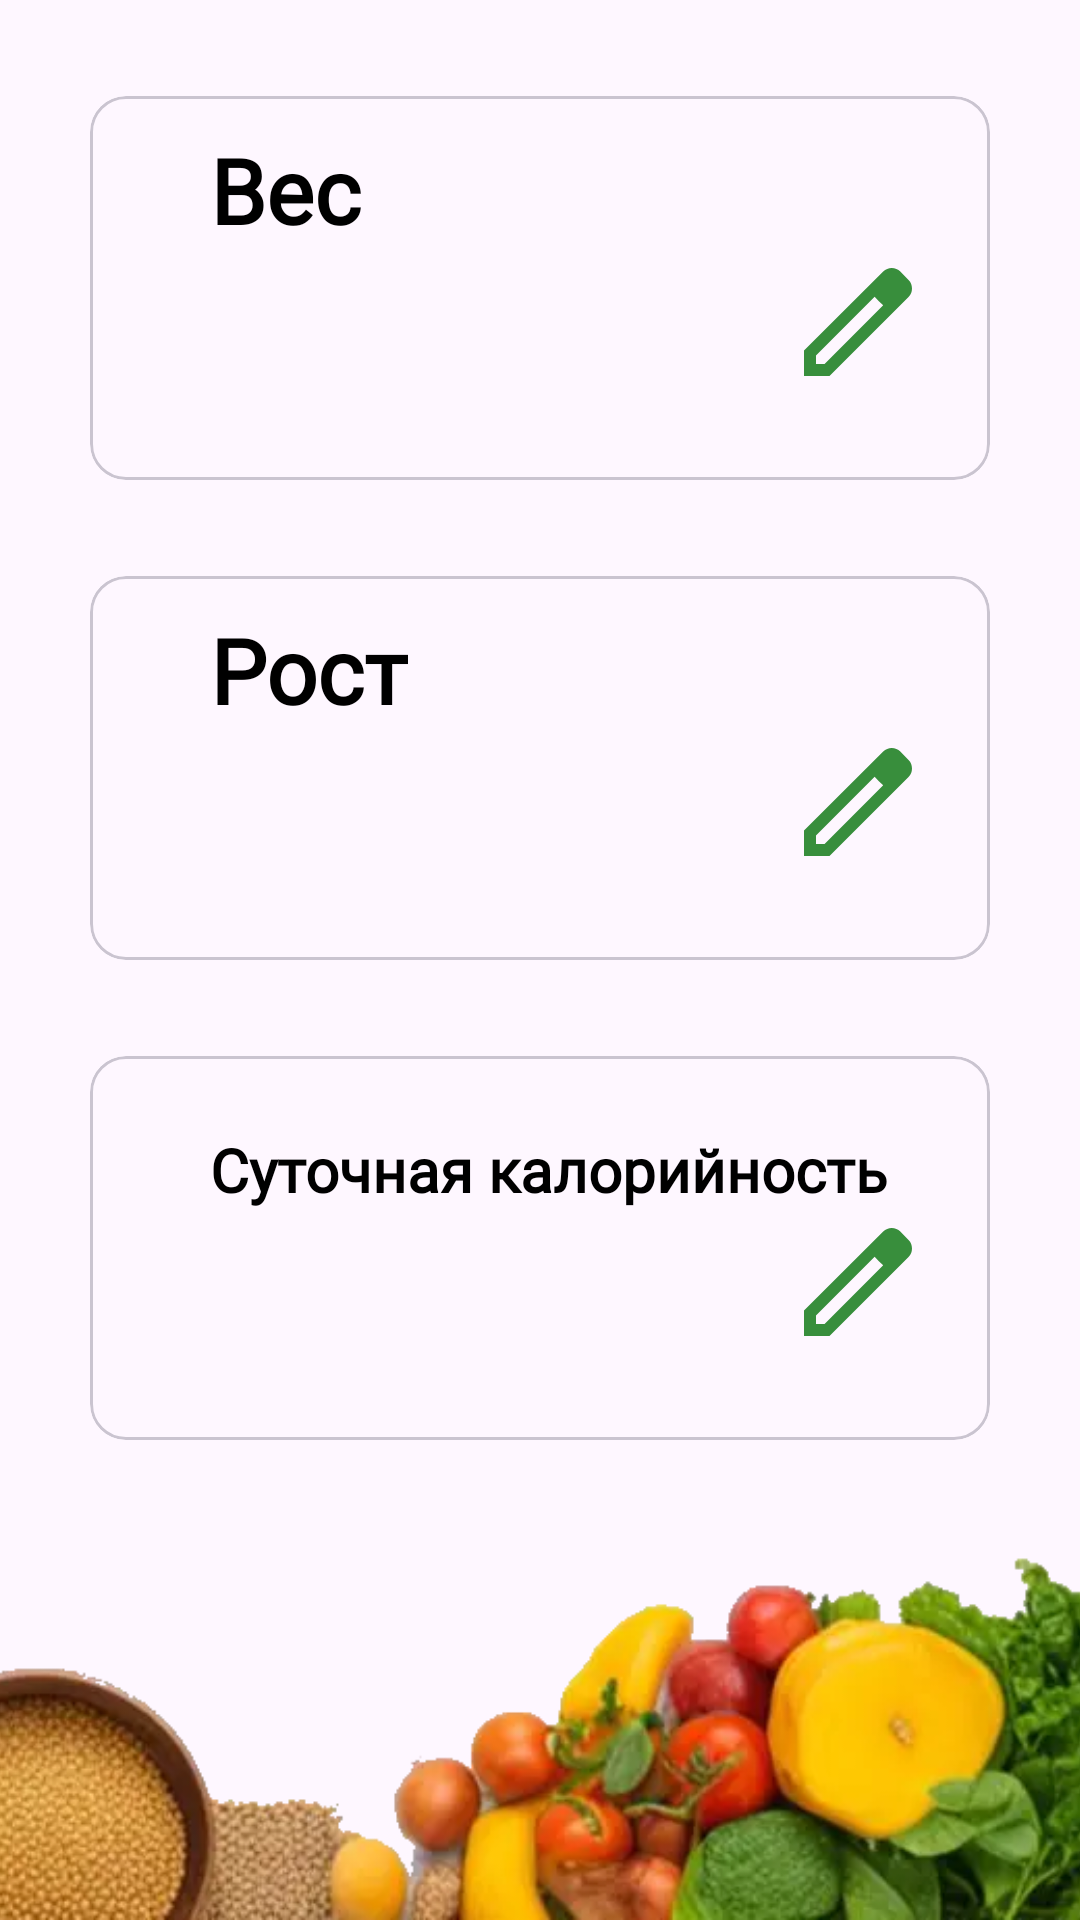

Icons on this 1080*1920 Android screen, each with its box as (x1, y1, x2, y2):
Изменить вес: (804, 268, 912, 376)
Изменить норму каллорий: (804, 1228, 912, 1336)
Изменить рост: (804, 748, 912, 856)
